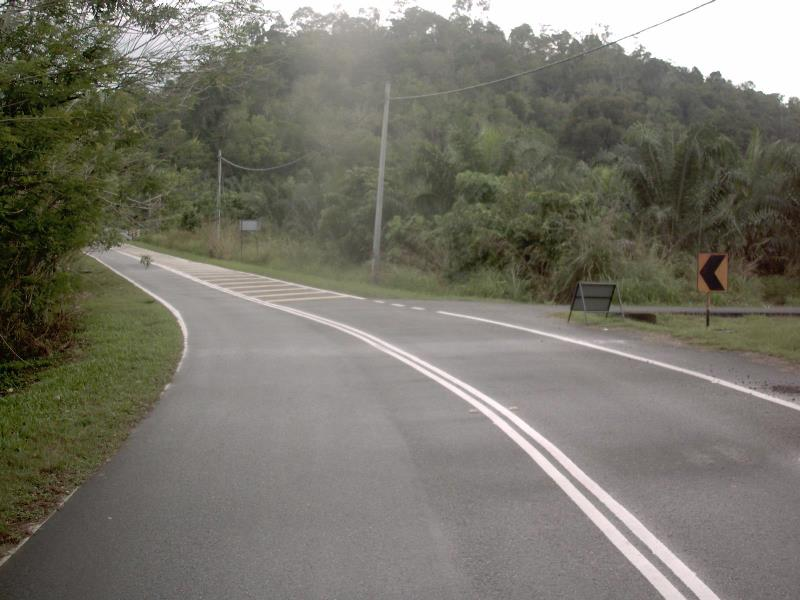traffic_sign: (689, 243, 737, 303)
